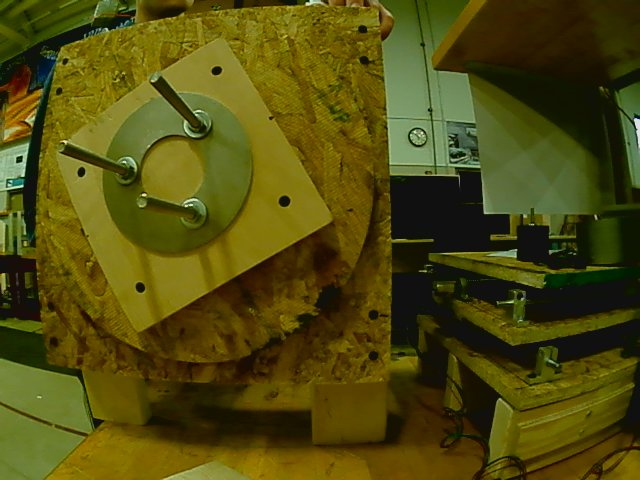bolt: (178, 196, 209, 230), (183, 109, 214, 139), (112, 155, 140, 187)
